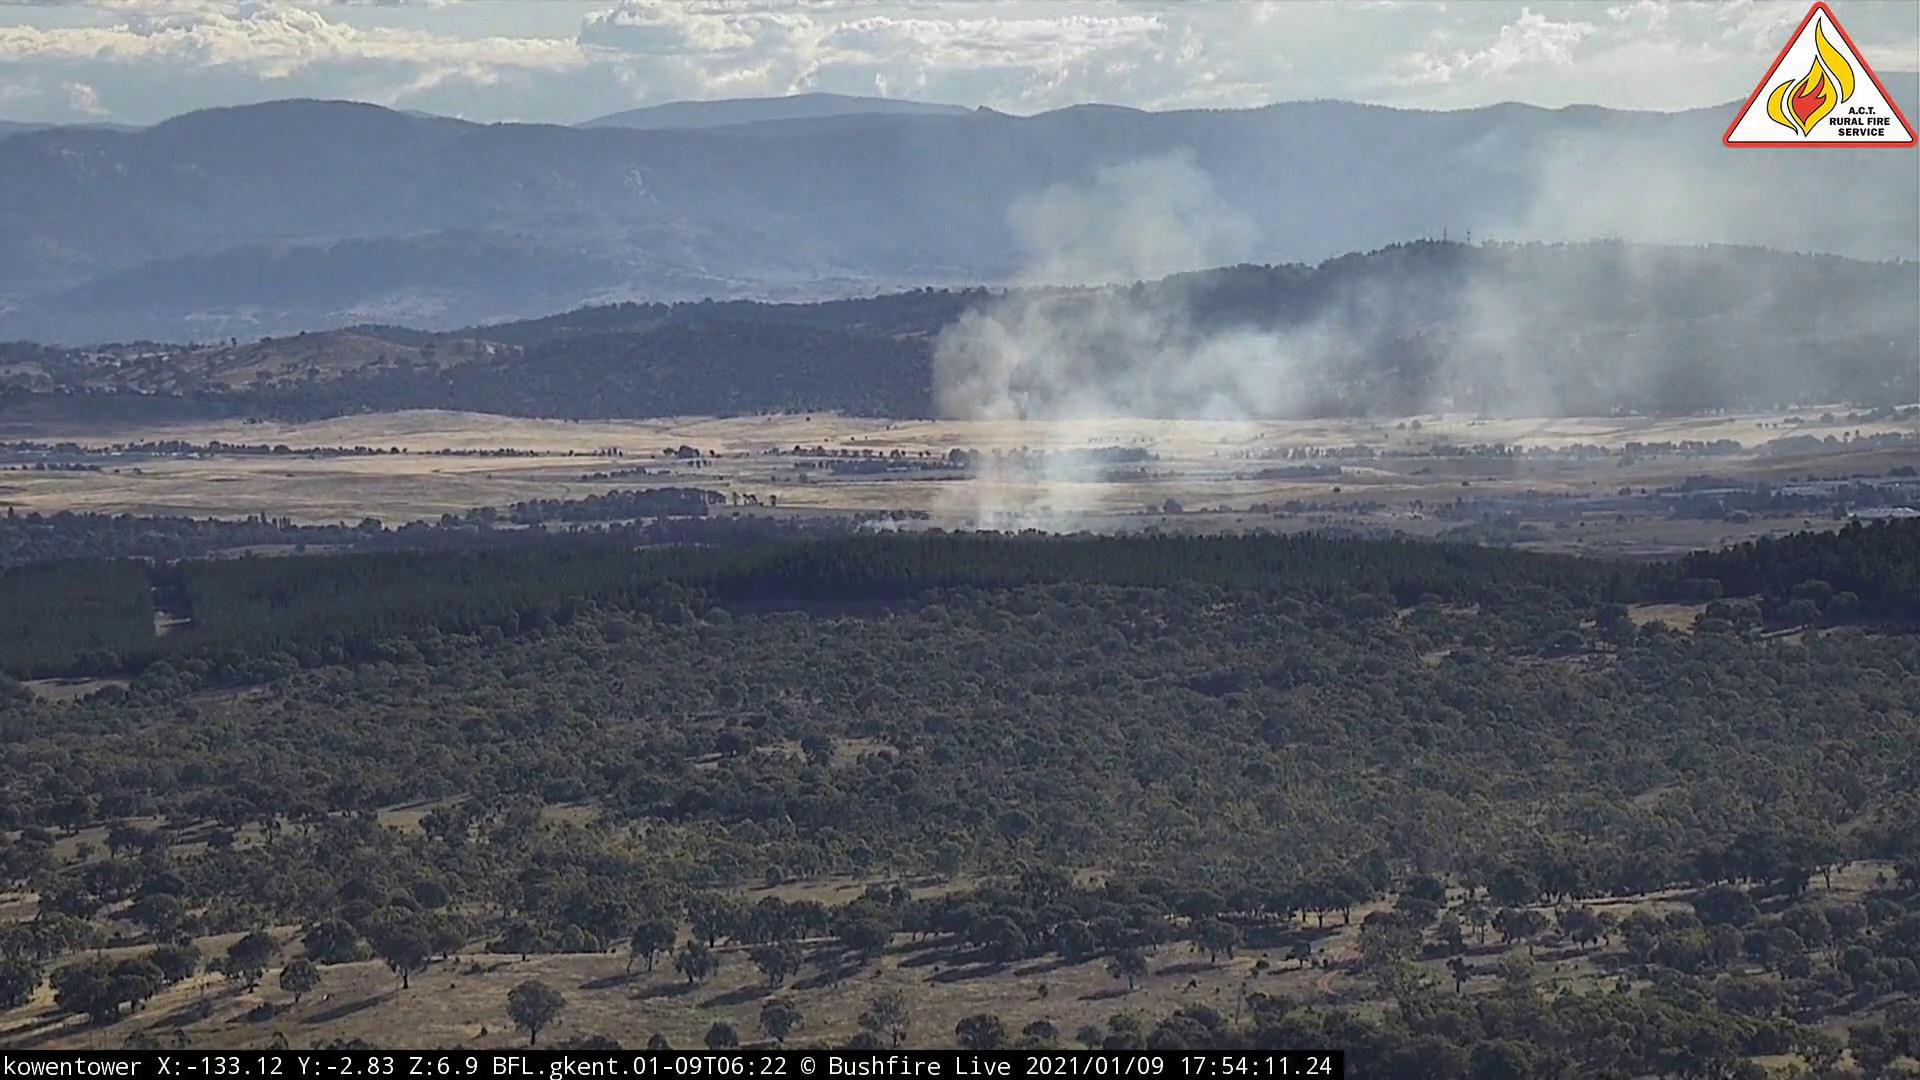instance_salient_object: (873, 119, 1717, 542)
